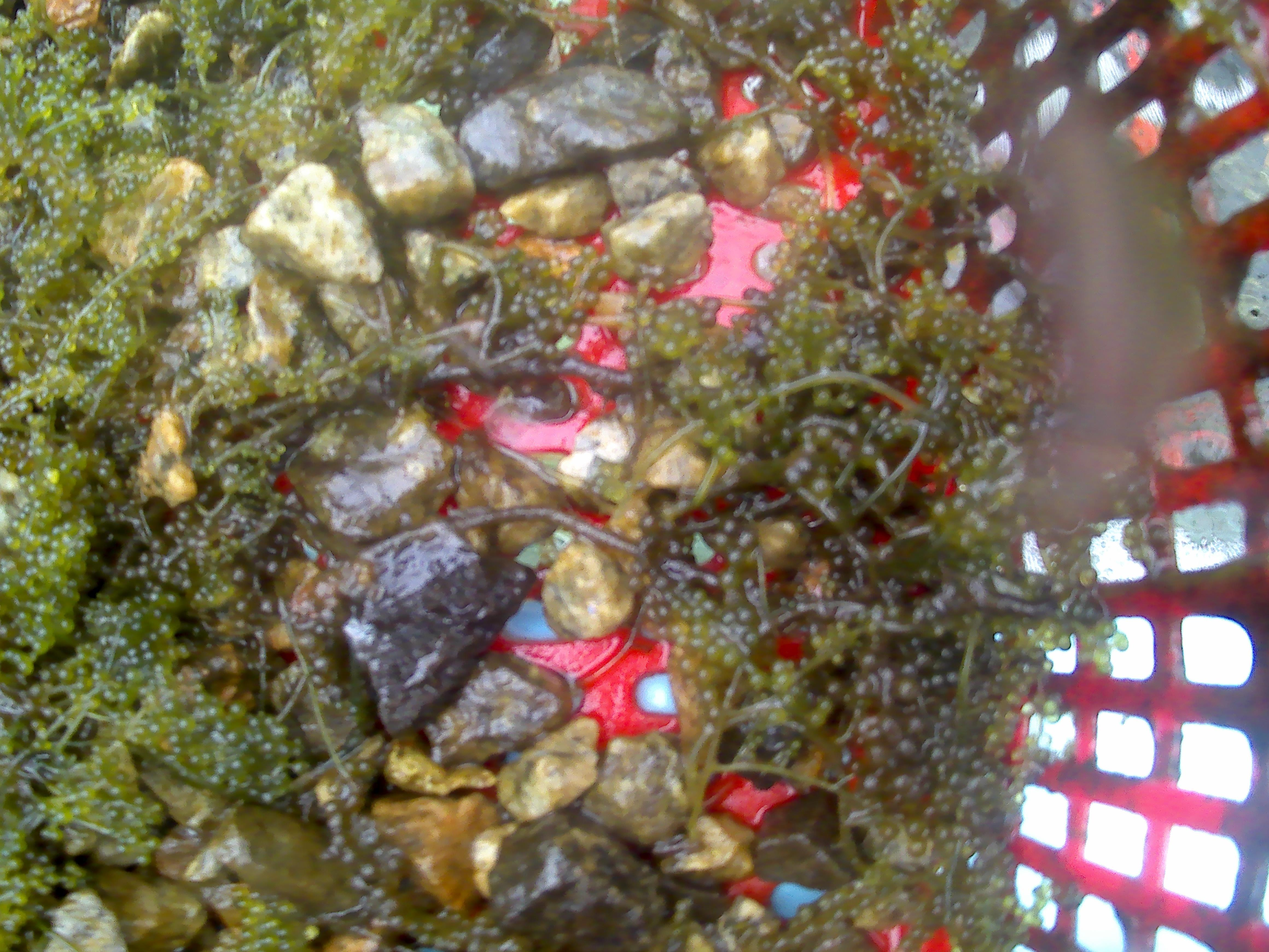Darkening: (737, 530, 758, 552), (452, 96, 473, 116), (450, 64, 470, 84), (847, 41, 868, 60), (900, 678, 919, 698), (831, 554, 850, 573), (737, 607, 756, 626), (535, 321, 555, 338), (861, 651, 878, 669), (827, 680, 845, 697), (823, 209, 840, 227), (713, 533, 730, 550), (868, 747, 886, 763), (930, 747, 946, 765), (724, 516, 741, 532), (861, 776, 876, 793), (232, 565, 247, 582), (701, 312, 716, 329), (906, 719, 925, 732), (234, 599, 249, 615), (30, 132, 45, 148), (509, 305, 525, 320), (939, 705, 955, 720), (264, 559, 281, 573), (32, 148, 49, 162), (839, 210, 853, 227), (659, 605, 673, 622), (942, 726, 956, 743), (857, 676, 870, 694), (702, 299, 720, 312), (882, 719, 897, 734), (544, 346, 559, 361), (654, 576, 669, 591), (742, 287, 758, 301), (426, 92, 443, 105), (896, 774, 908, 792), (918, 653, 932, 668), (838, 27, 853, 41), (840, 234, 854, 249), (768, 292, 782, 307), (900, 743, 914, 757), (261, 598, 274, 613), (151, 535, 164, 550), (826, 44, 841, 57), (177, 508, 193, 520), (836, 590, 852, 602), (813, 45, 826, 59), (166, 523, 179, 536), (572, 312, 586, 324), (566, 326, 580, 338), (628, 576, 640, 590), (932, 674, 944, 687), (946, 672, 959, 684), (941, 648, 953, 660), (124, 568, 137, 579), (38, 65, 49, 78), (869, 216, 880, 229), (855, 205, 865, 217)
Harvestable: (52, 190, 72, 208), (11, 890, 30, 908), (78, 183, 97, 201), (1097, 619, 1115, 638), (948, 52, 966, 70), (935, 40, 952, 58), (912, 30, 929, 48), (729, 407, 745, 426), (178, 716, 195, 732), (117, 691, 134, 707), (64, 153, 82, 168), (55, 807, 72, 822), (78, 787, 95, 802), (45, 175, 63, 189), (21, 161, 39, 175), (1114, 634, 1128, 652), (58, 619, 74, 634), (1043, 700, 1059, 715), (230, 701, 245, 717), (716, 448, 733, 462), (231, 116, 246, 131), (7, 536, 22, 551), (155, 659, 170, 674), (83, 312, 99, 326), (125, 669, 142, 682), (37, 627, 52, 641), (39, 602, 53, 616), (96, 300, 110, 314), (167, 243, 181, 257), (702, 432, 716, 446), (34, 614, 49, 627), (39, 163, 54, 176), (11, 520, 25, 533), (85, 88, 98, 102), (133, 79, 147, 92), (837, 72, 850, 86), (112, 298, 126, 311), (1007, 693, 1021, 706), (1057, 637, 1071, 650), (33, 641, 48, 653), (164, 702, 179, 714), (28, 484, 41, 497), (24, 57, 37, 70), (53, 142, 67, 154), (59, 668, 73, 680), (20, 662, 33, 674), (91, 116, 103, 129), (814, 65, 826, 78), (156, 88, 167, 102), (147, 82, 157, 97), (46, 367, 58, 379), (20, 577, 32, 588), (41, 105, 52, 117), (57, 319, 69, 330), (113, 312, 125, 323), (11, 53, 22, 64), (842, 87, 853, 98), (65, 342, 76, 353), (110, 89, 120, 100), (112, 264, 123, 274), (89, 286, 99, 297), (79, 332, 90, 342), (87, 339, 98, 349), (102, 271, 112, 281), (88, 328, 99, 337), (95, 279, 105, 288)
Whitening: (1, 472, 21, 493), (128, 6, 141, 19), (46, 348, 58, 360)
